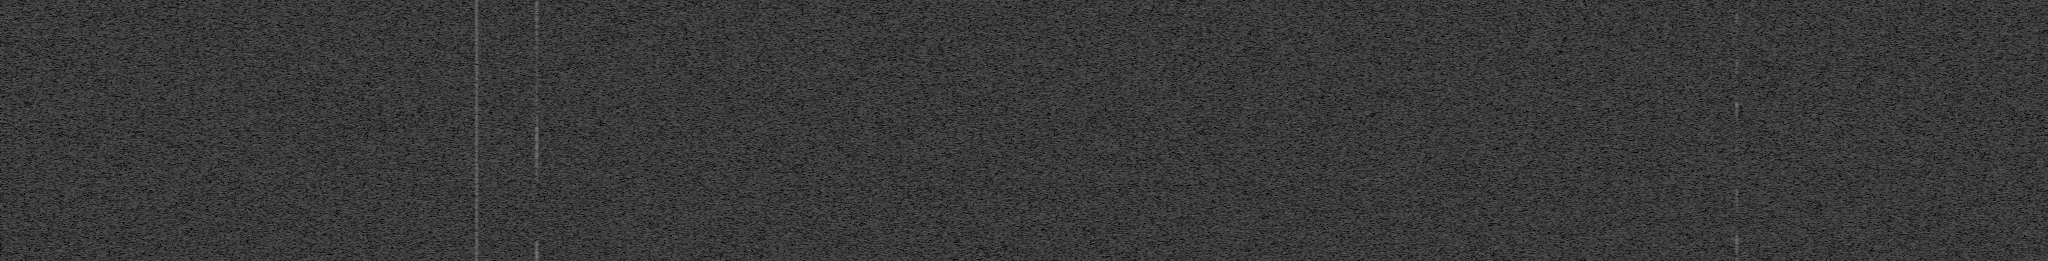wv_am: (474, 0, 479, 228), (470, 231, 483, 261)
wv_lsb: (1735, 232, 1740, 261), (1735, 100, 1740, 121), (1735, 189, 1738, 217), (1735, 14, 1740, 33), (1735, 59, 1738, 81), (1735, 140, 1738, 155), (1735, 40, 1738, 54), (1735, 161, 1738, 168), (1735, 218, 1738, 223), (1735, 125, 1738, 130), (1735, 1, 1738, 7), (1735, 136, 1738, 140), (1735, 130, 1738, 134), (1735, 54, 1738, 57), (1735, 34, 1738, 38), (1735, 157, 1738, 159)
wv_usb: (534, 1, 539, 183), (534, 241, 539, 261), (536, 185, 539, 196), (536, 224, 538, 234), (536, 210, 538, 217), (536, 219, 538, 224), (536, 202, 538, 205)
